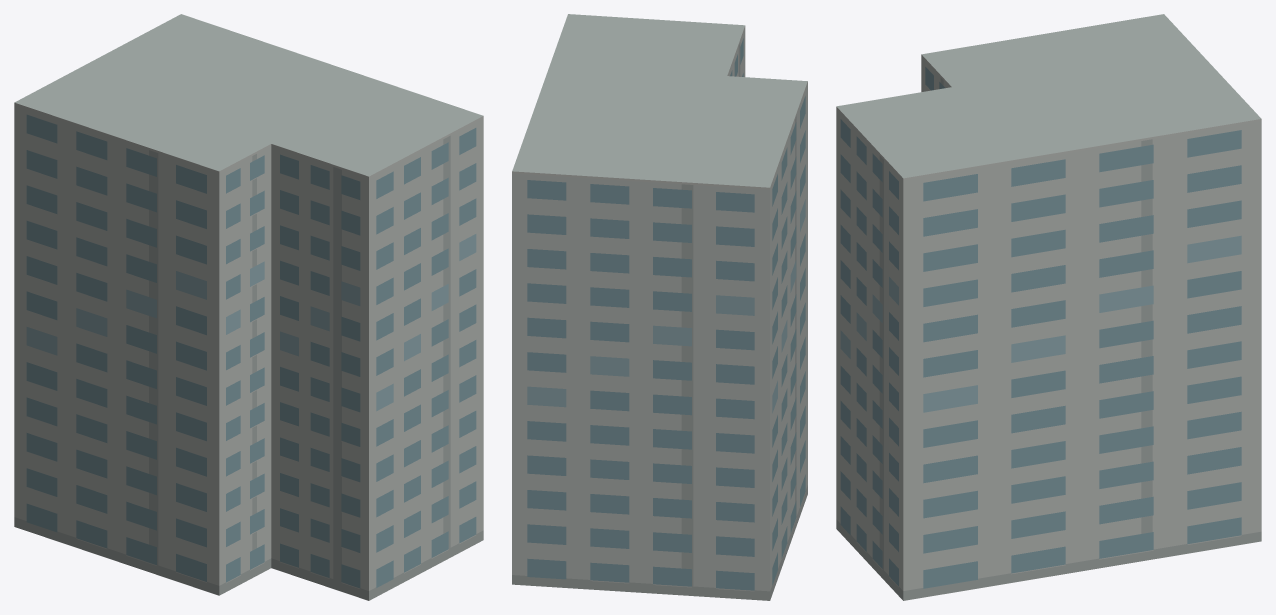
The model's file is residential-abd69ad3-0f9f-416d-93d9-941797344c70.glb.
3 views of the same model, side by side, from view 1: azimuth 30°, elevation 25°; view 2: azimuth 150°, elevation 25°; view 3: azimuth 270°, elevation 25° (orthographic). The views are drawn at different scales.
Parts seen in each view (by area): view 1: residential-abd69ad3-0f9f-416d-93d9-941797344c70.tmp; view 2: residential-abd69ad3-0f9f-416d-93d9-941797344c70.tmp; view 3: residential-abd69ad3-0f9f-416d-93d9-941797344c70.tmp.
Part boxes in pixels (<box>): residential-abd69ad3-0f9f-416d-93d9-941797344c70.tmp: <box>14,14,483,600</box>; residential-abd69ad3-0f9f-416d-93d9-941797344c70.tmp: <box>512,14,807,600</box>; residential-abd69ad3-0f9f-416d-93d9-941797344c70.tmp: <box>836,14,1261,600</box>.
Size of the model in its own units: 39.23 by 47 by 42.89.
